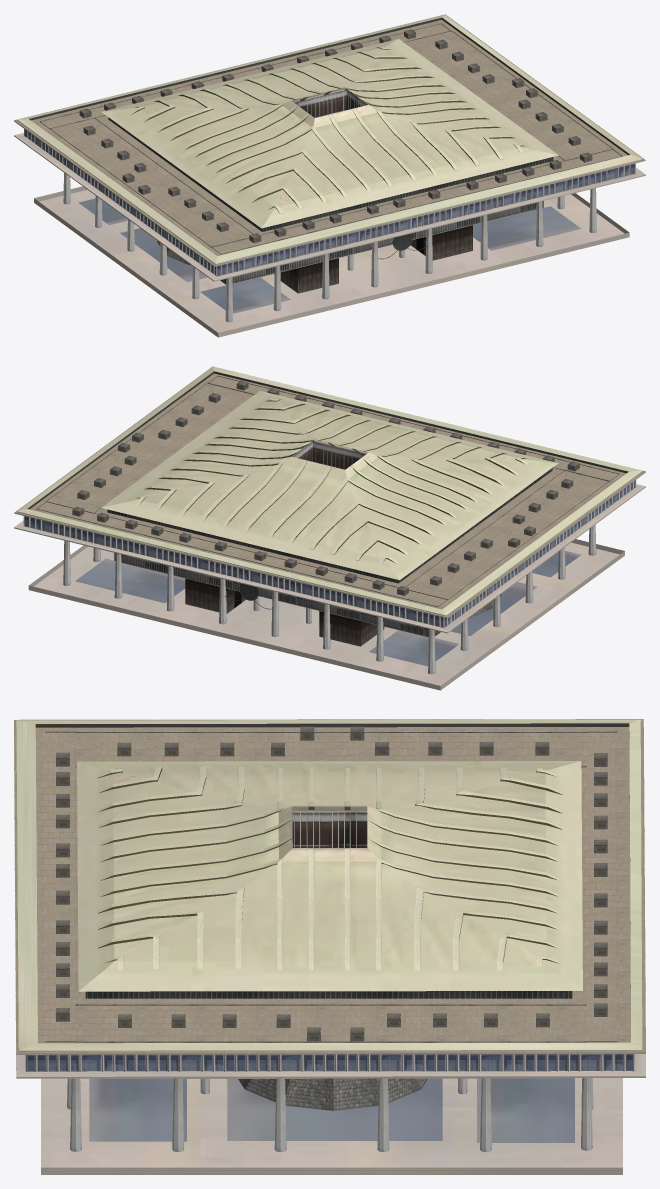
The model's file is justice.glb.
3 renders of one model, top to bottom at view 1: azimuth 30°, elevation 25°; view 2: azimuth 150°, elevation 25°; view 3: azimuth 270°, elevation 25°, orthographic. The views are drawn at different scales.
Visible parts, largest first — view 1: justice; view 2: justice; view 3: justice.
Boxes of the visible parts, x1,y1,x2,y2 form: justice: (14, 14, 645, 337); justice: (14, 366, 645, 690); justice: (14, 719, 645, 1174).
Bounding box in the file's own units: 113 × 29.45 × 90.15.
8 materials, 8 textured.
